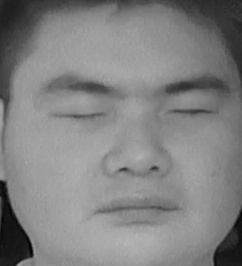blink: (52, 98, 108, 133), (167, 97, 213, 130)
mouth: (90, 182, 185, 233)
